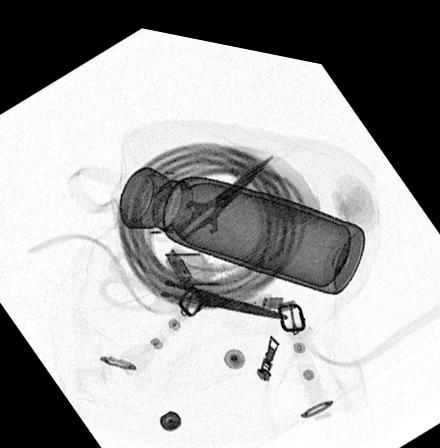Scissors: (145, 144, 274, 261), (96, 245, 290, 308)
